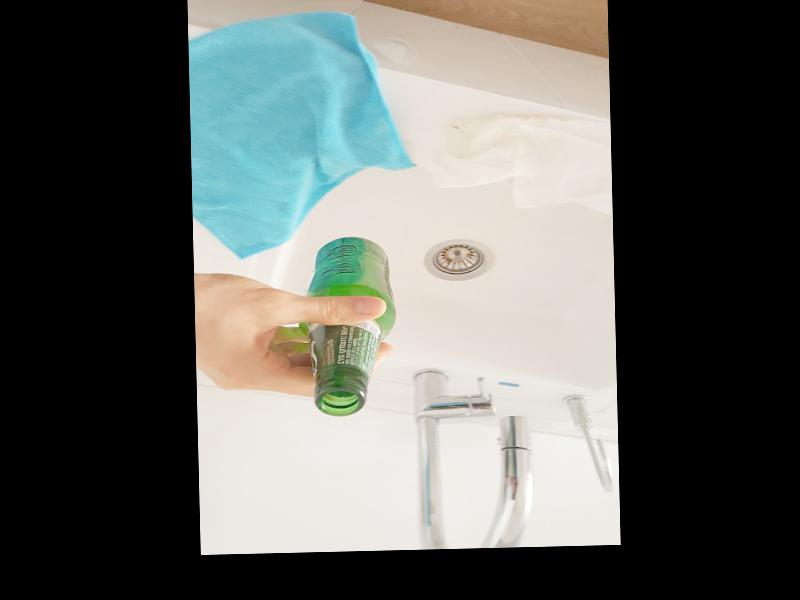Beer: (298, 234, 399, 416)
